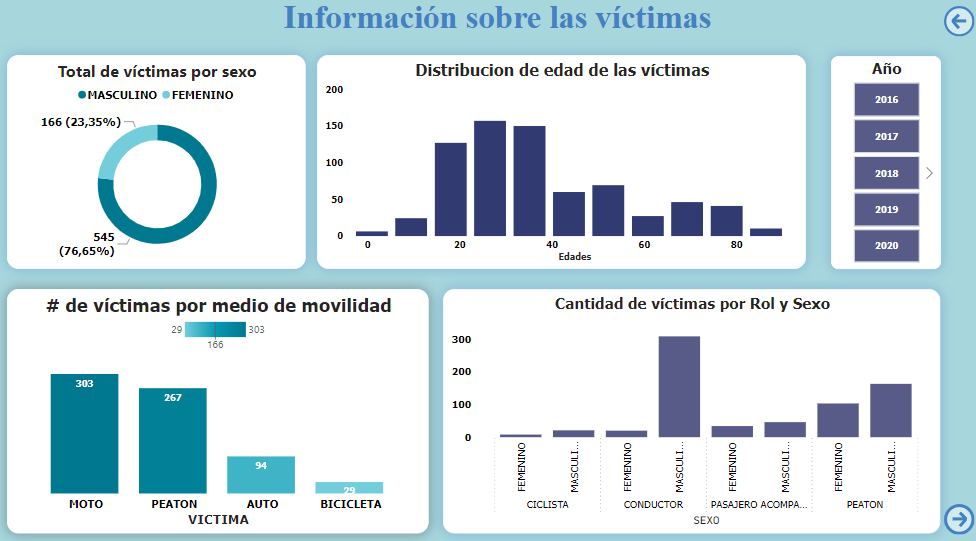

The page's visual inventory and layout, read from the dashboard file:
{"tool":"powerbi","page":{"name":"Victimas","canvas":[1280,720],"ordinal":3},"visuals":[{"type":"donutChart","title":"Total de víctimas por sexo ","fields":{"Y":["CountNonNull(Victimas.VICTIMA)"],"Category":["Victimas.SEXO"]},"box":[11.4,80,391.4,280],"z":0},{"type":"columnChart","title":"# de vícitmias por medio de movilidad","fields":{"Category":["Victimas.VICTIMA"],"Y":["CountNonNull(Victimas.VICTIMA)"]},"box":[11.5,385.9,551.5,319.7],"z":1000},{"type":"columnChart","title":"Cantidad de víctimas por Rol y Sexo","fields":{"Category":["Victimas.ROL","Victimas.SEXO"],"Y":["CountNonNull(Victimas.VICTIMA)"]},"box":[582.9,385.7,651.4,320],"z":2000},{"type":"clusteredColumnChart","title":"Distribucion de edad de las víctimas","fields":{"Y":["CountNonNull(Victimas.EDAD)"],"Category":["Victimas.EDAD (ubicaciones)"]},"box":[417.1,80,640,280],"z":3000},{"type":"textbox","box":[357.1,0,603.4,64.8],"z":4000},{"type":"slicer","title":"Año","fields":{"Values":["Victimas.AAAA"]},"box":[1090,80,144.3,280],"z":5000},{"type":"actionButton","box":[1238.4,15.8,40,40],"z":6000},{"type":"actionButton","box":[1238.4,668.2,40,40.3],"z":7000}]}

Visuals, with their boxes in screenshot pixels (x1, y1, x2, y2), scaled from the page's 1280x720 canvas onto the 976x541 screenshot:
"Total de víctimas por sexo " donutChart: [9,60,307,270]
"# de vícitmias por medio de movilidad" columnChart: [9,290,429,530]
"Cantidad de víctimas por Rol y Sexo" columnChart: [444,290,941,530]
"Distribucion de edad de las víctimas" clusteredColumnChart: [318,60,806,270]
textbox: [272,0,732,49]
"Año" slicer: [831,60,941,270]
actionButton: [944,12,975,42]
actionButton: [944,502,975,532]
